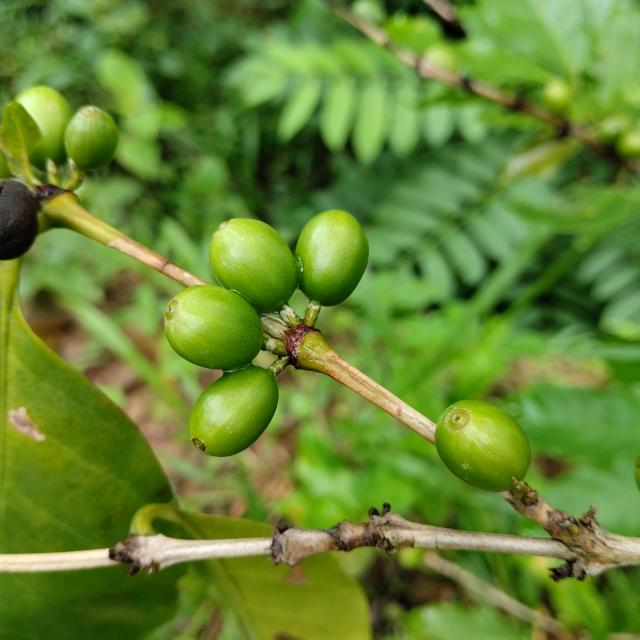green: (435, 400, 532, 492), (209, 218, 300, 313), (164, 285, 262, 371), (189, 365, 278, 457), (295, 210, 369, 306), (15, 85, 72, 170), (64, 105, 118, 170)
red: (0, 179, 38, 260)
